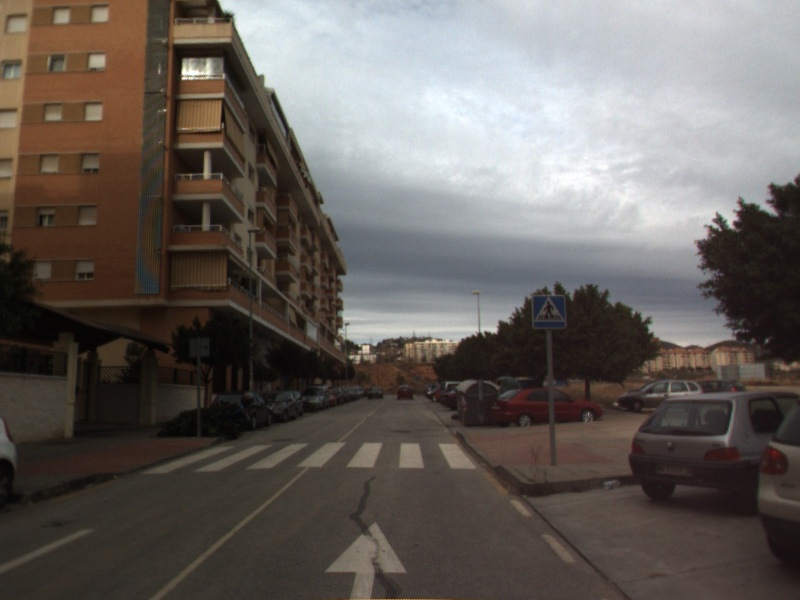STRAIGHT: (321, 517, 411, 600)
